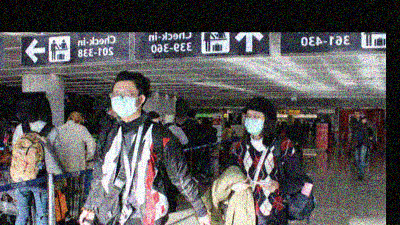with_mask: (111, 89, 137, 118), (244, 112, 264, 136)
without_mask: (353, 113, 359, 118)
